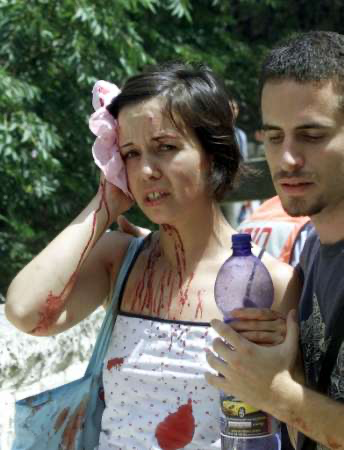Face: (258, 103, 343, 222), (118, 114, 200, 219)
